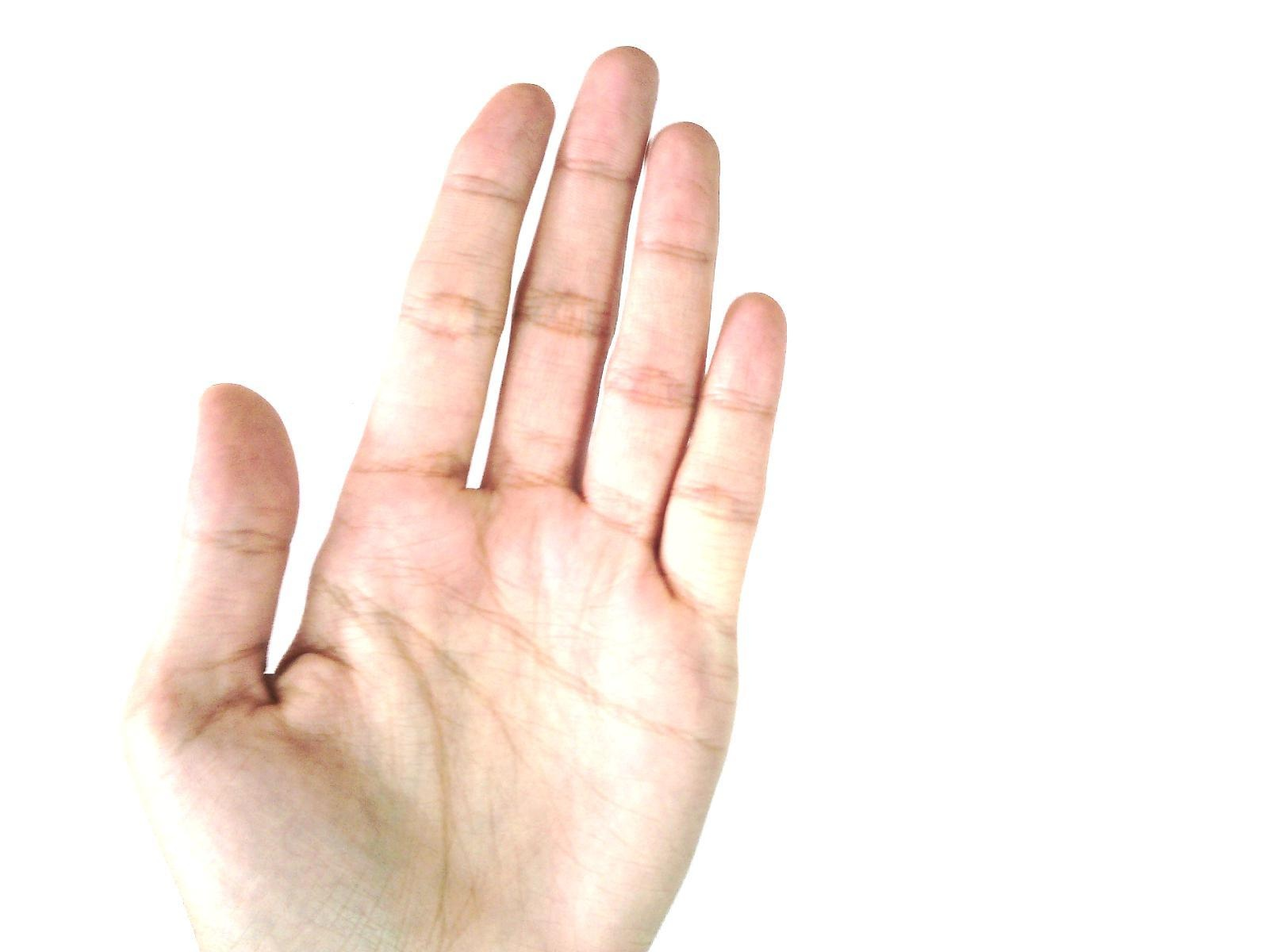open_palm: (121, 44, 792, 951)
